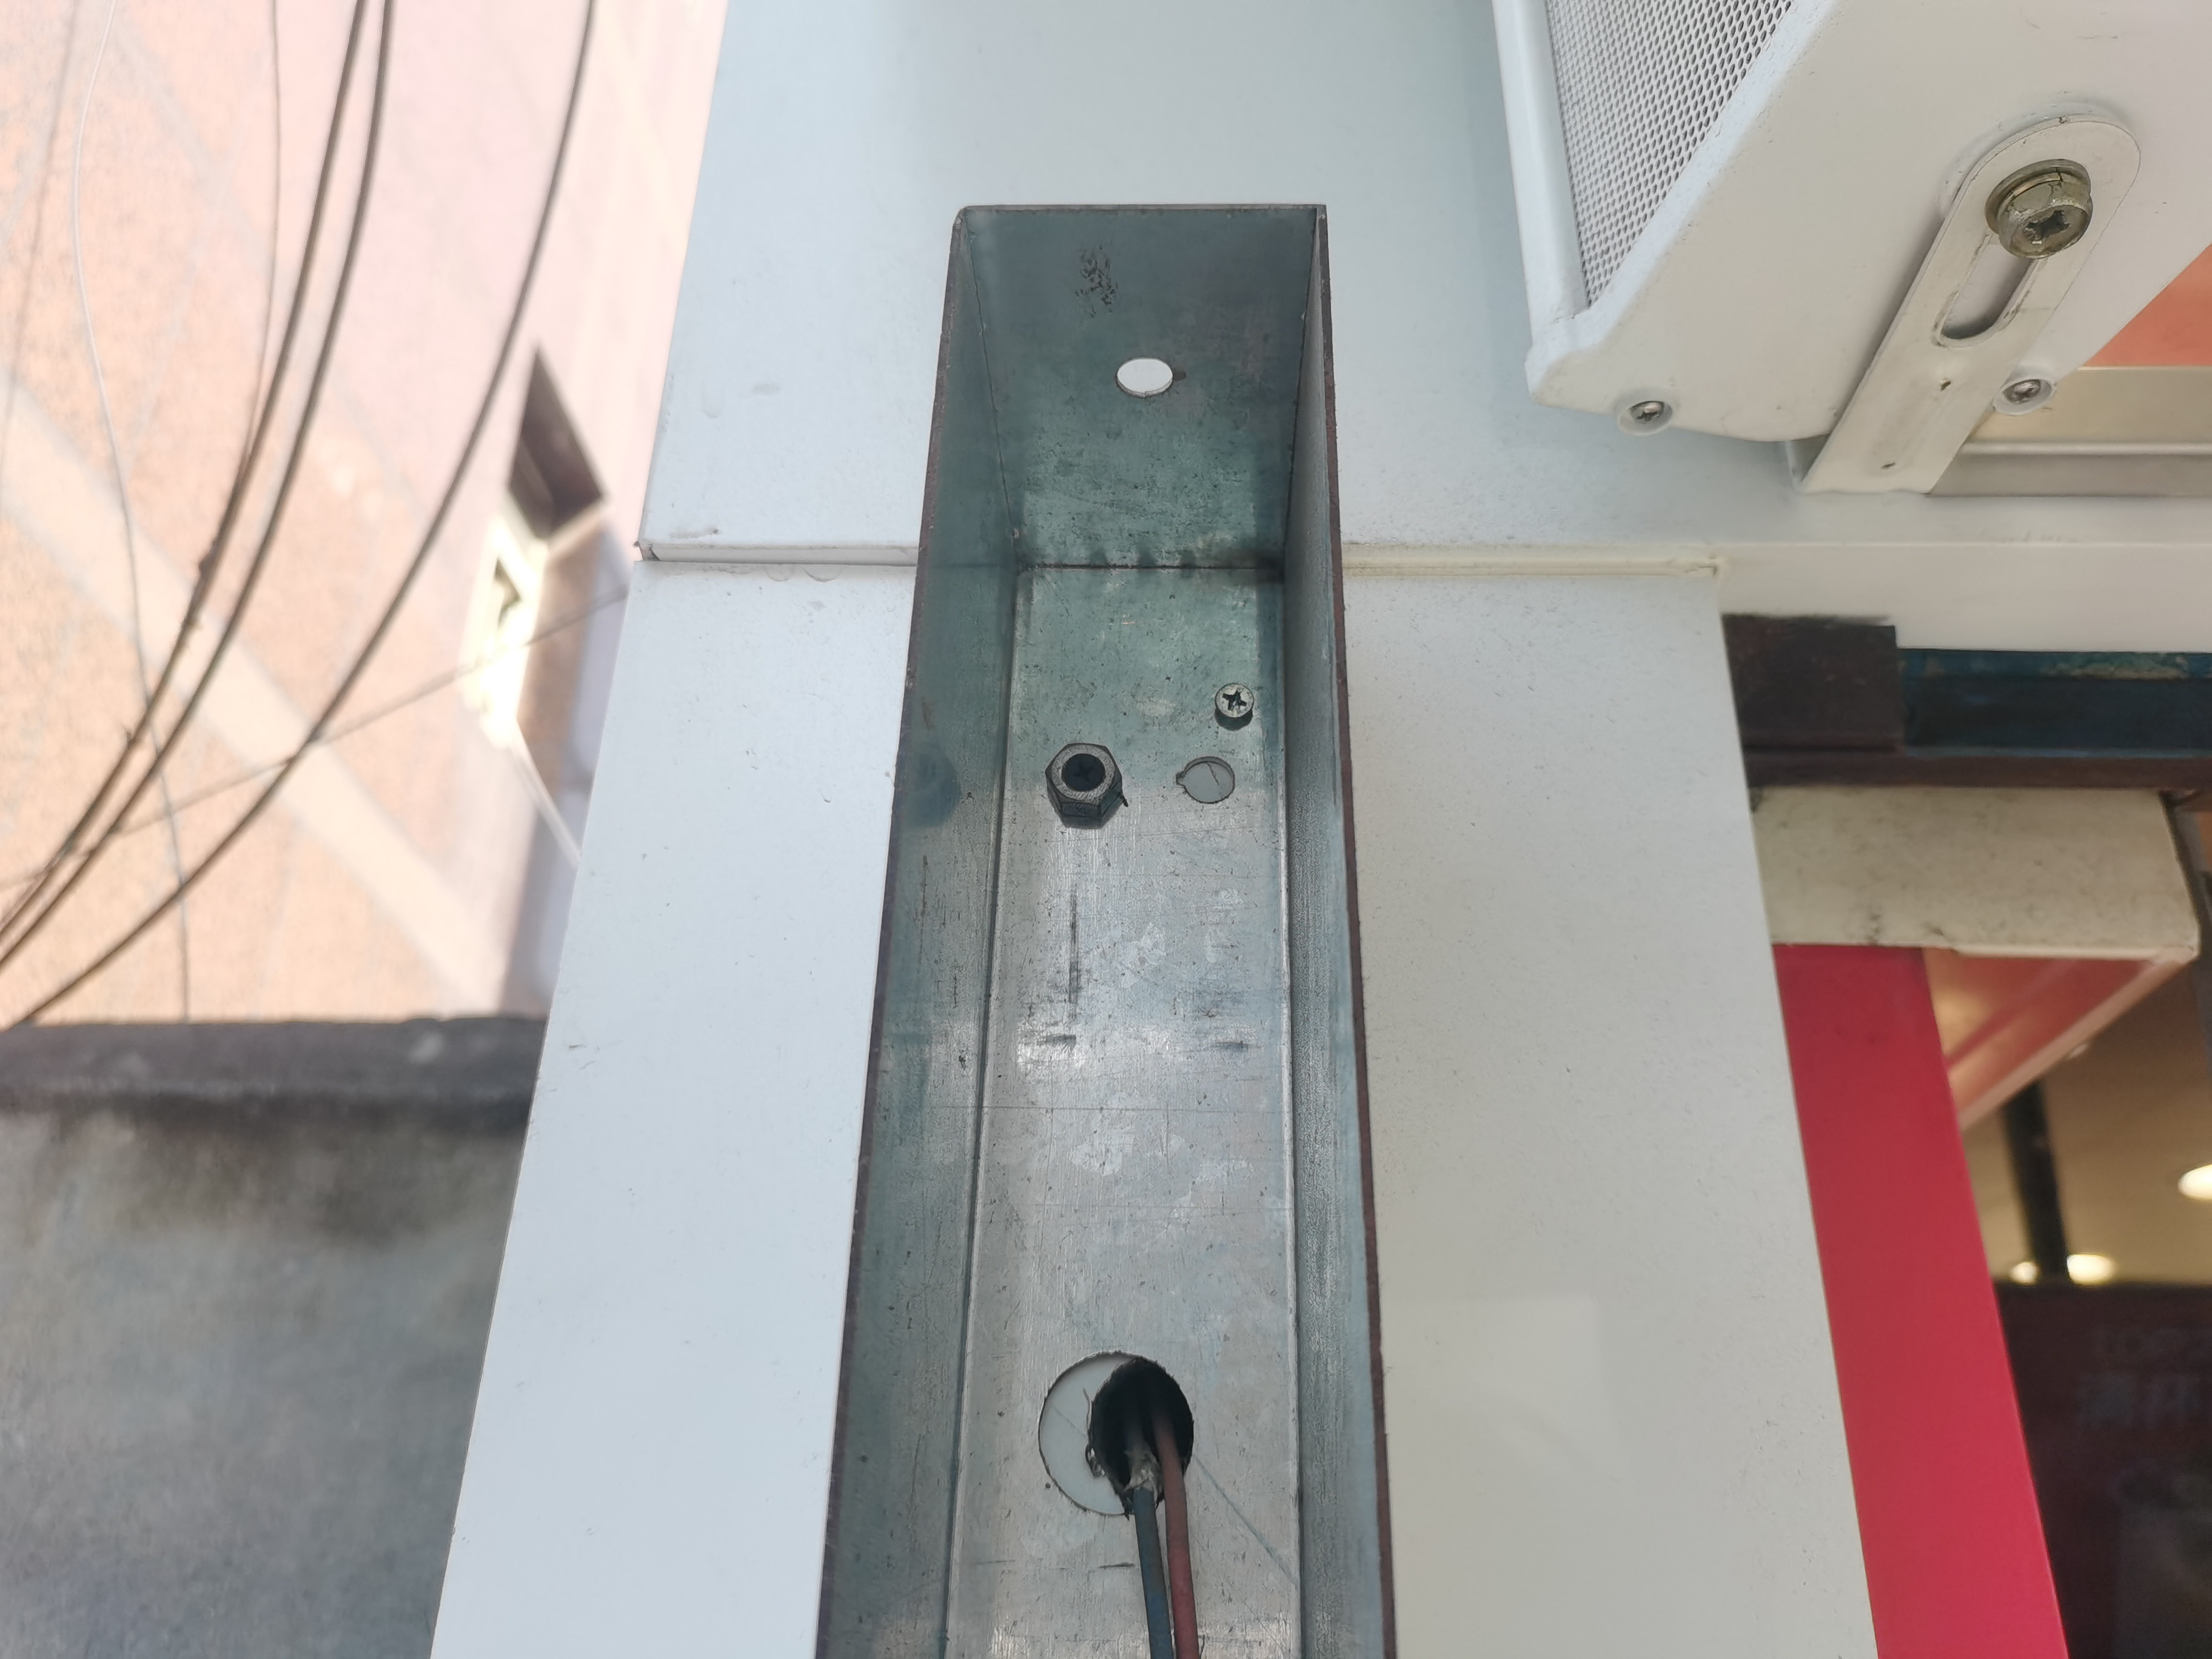bolt_b: (1042, 742, 1125, 823)
